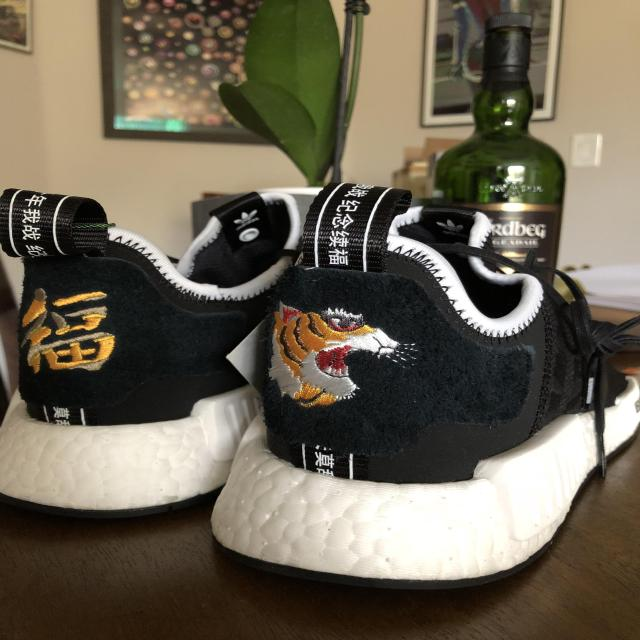shoe: (172, 198, 640, 640), (0, 157, 244, 545)
